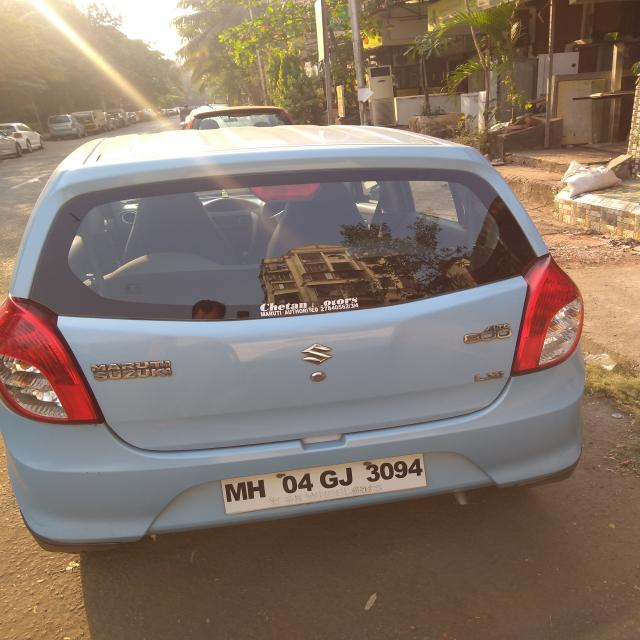Number-Plate: (225, 454, 427, 512)
